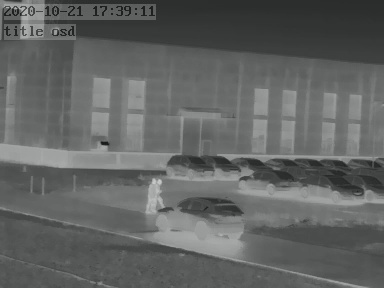person: (148, 176, 163, 211)
vehicle: (155, 196, 244, 241), (240, 169, 302, 191), (166, 152, 213, 179), (204, 153, 242, 177), (350, 173, 383, 200), (233, 155, 269, 171), (262, 155, 295, 169), (348, 156, 379, 170), (296, 155, 324, 169), (318, 156, 347, 169)
